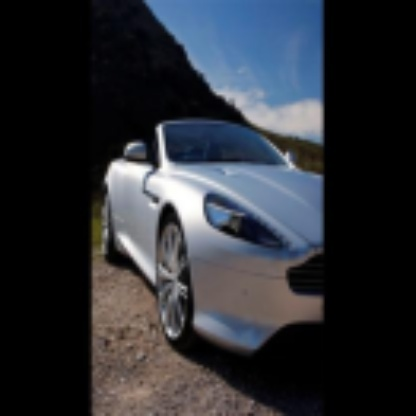Vehicle: (101, 122, 324, 360)
